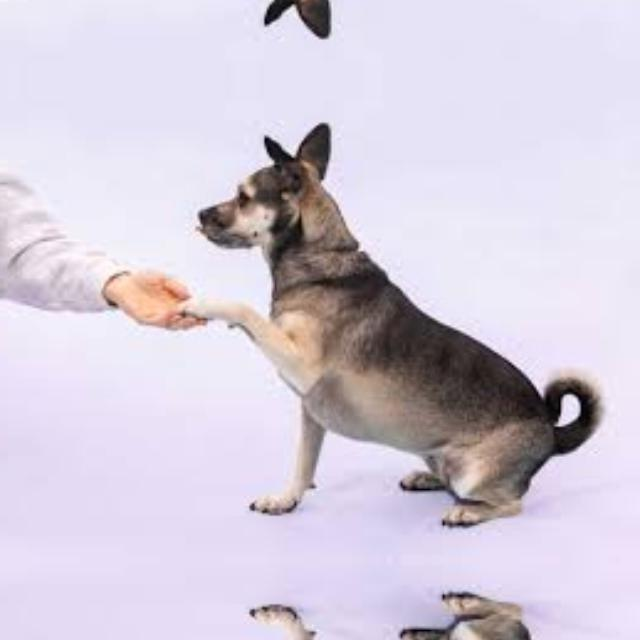dog: (194, 108, 610, 518), (194, 0, 611, 52), (194, 600, 611, 640)
